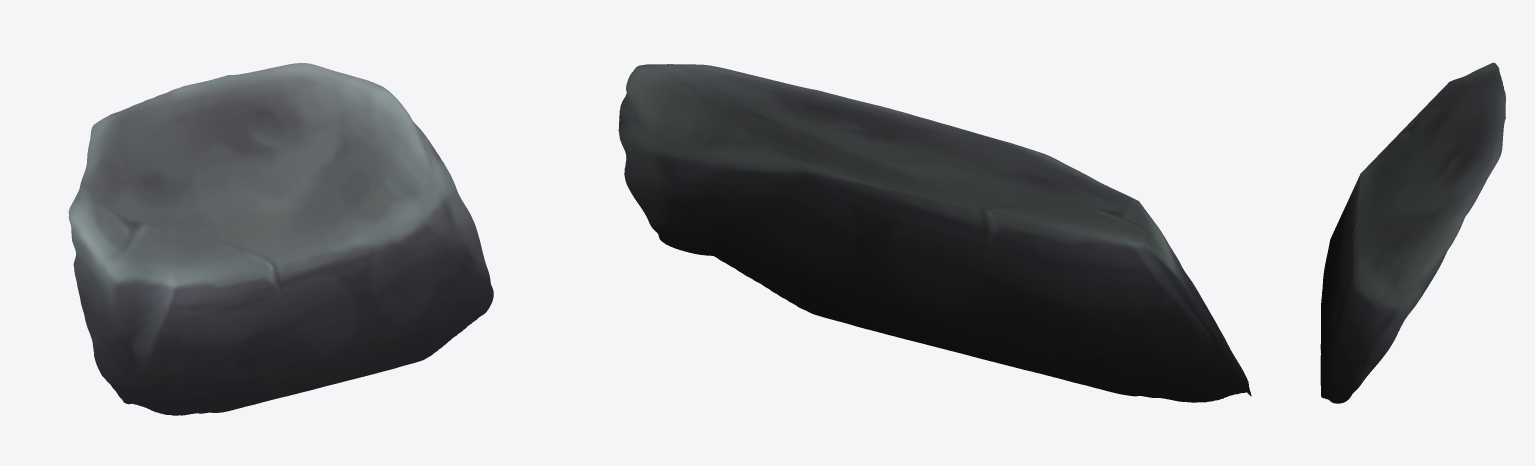
File: Stone Floor Slab.FBX
3 views of the same model, side by side, from view 1: azimuth 30°, elevation 25°; view 2: azimuth 150°, elevation 25°; view 3: azimuth 270°, elevation 25° (orthographic). The views are drawn at different scales.
Visible parts, largest first — view 1: Slab; view 2: Slab; view 3: Slab.
Boxes of the visible parts, x1,y1,x2,y2 form: Slab: (68,63,493,415); Slab: (618,64,1251,402); Slab: (1320,62,1505,403).
Bounding box in the file's own units: 169 × 76.52 × 108.
